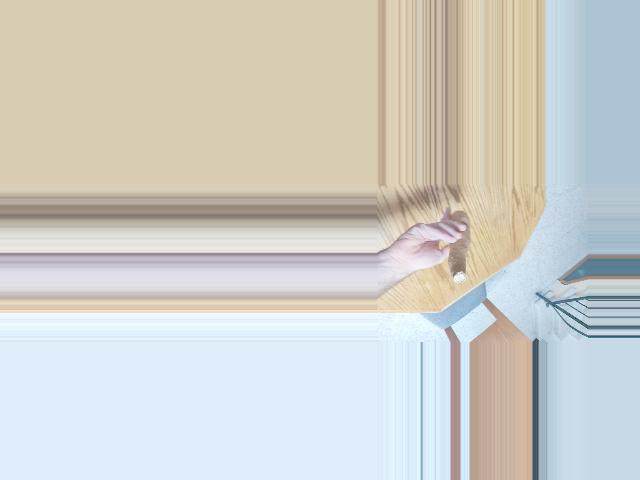sweet_potato: (450, 216, 477, 274)
